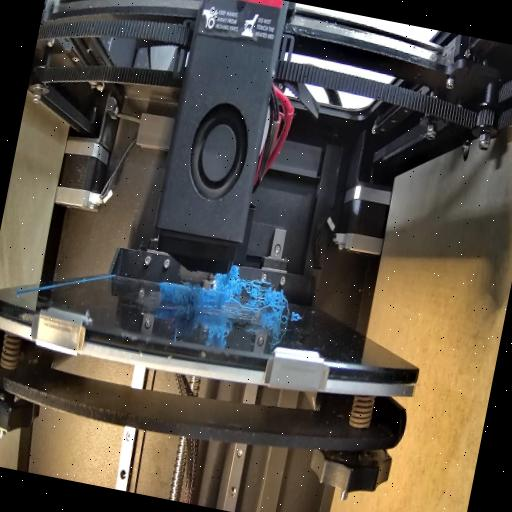spaghetti: (206, 262, 296, 326), (170, 276, 210, 324)
